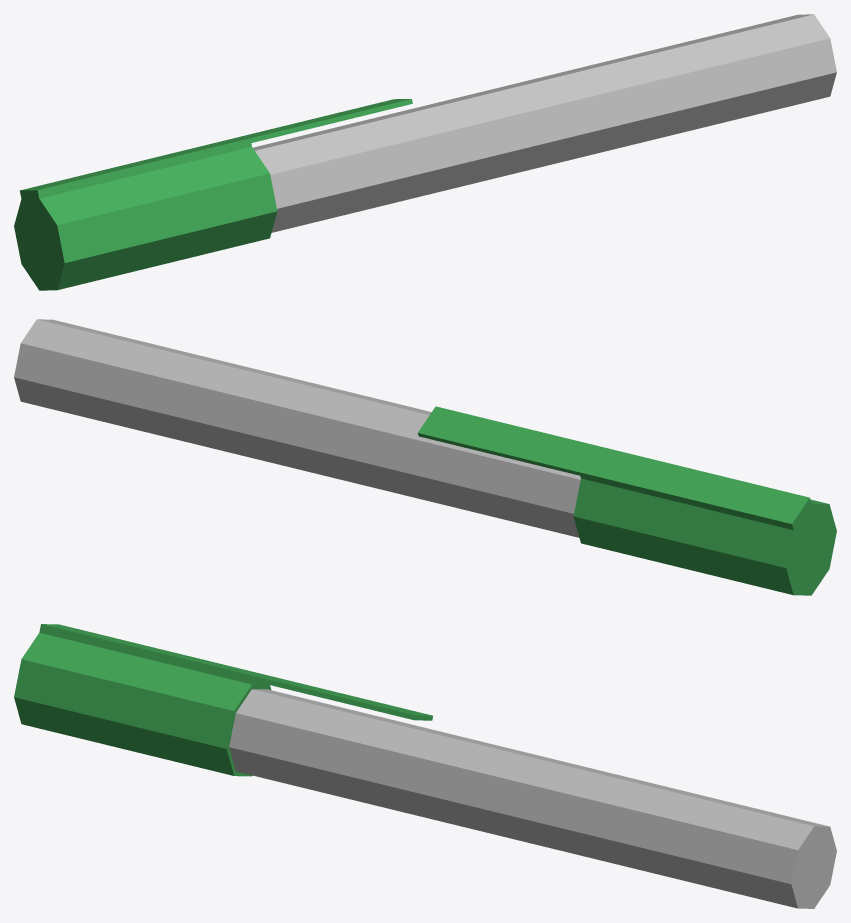
Rendered from Tusch_Grøn.fbx.
3 renders of one model, top to bottom at view 1: azimuth 30°, elevation 25°; view 2: azimuth 150°, elevation 25°; view 3: azimuth 330°, elevation 25°, orthographic.
Visible parts, largest first — view 1: Cylinder.008; view 2: Cylinder.008; view 3: Cylinder.008.
Boxes of the visible parts, <box> form: Cylinder.008: <box>14,14,836,290</box>; Cylinder.008: <box>14,319,836,595</box>; Cylinder.008: <box>14,624,836,908</box>.
Bounding box in the file's own units: 26.65 × 3.26 × 3.02.
